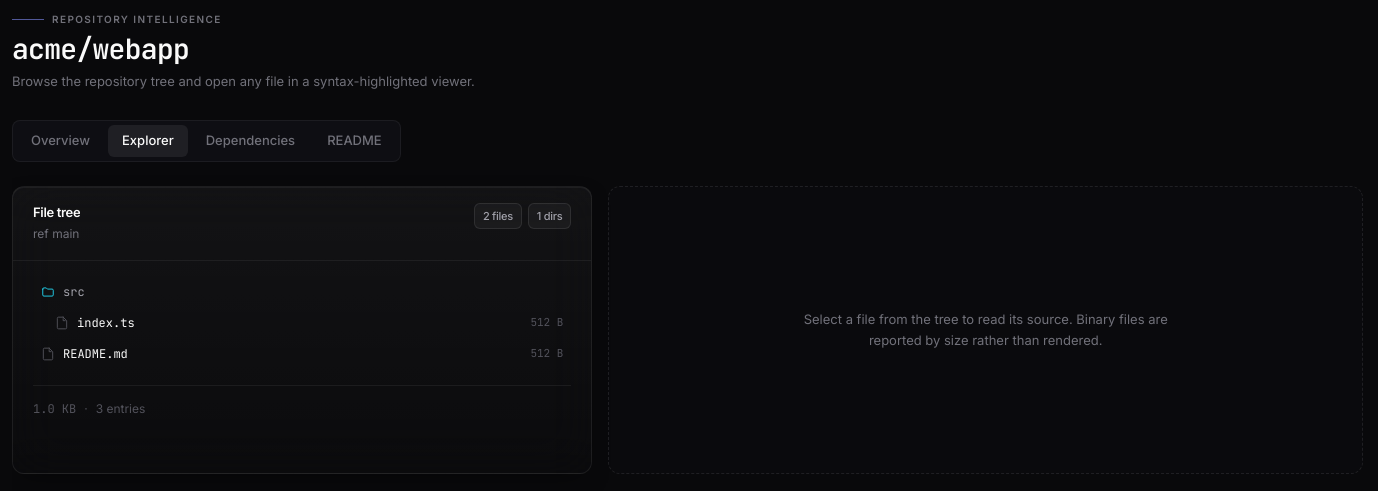
RepositoryExplorerPage › reports a failure to open a single file without losing the tree
The image size is (1378, 491).
Expected: the text "index.ts" is shown, top-left (77, 315), bottom-right (135, 331)
Click the button "index.ts 512 B".
click(106, 323)  # box top-left (33, 308), bottom-right (571, 338)
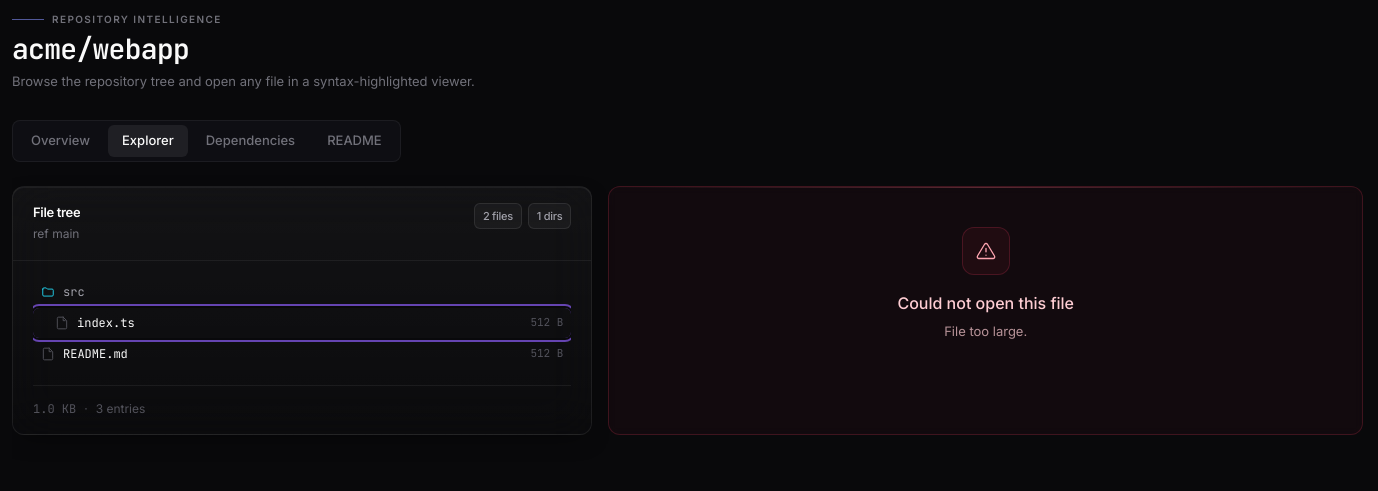
Expected: the heading "File tree" is shown, top-left (33, 203), bottom-right (80, 222)
Now the heading "Could not open this file" is shown, box top-left (897, 293), bottom-right (1074, 313)
